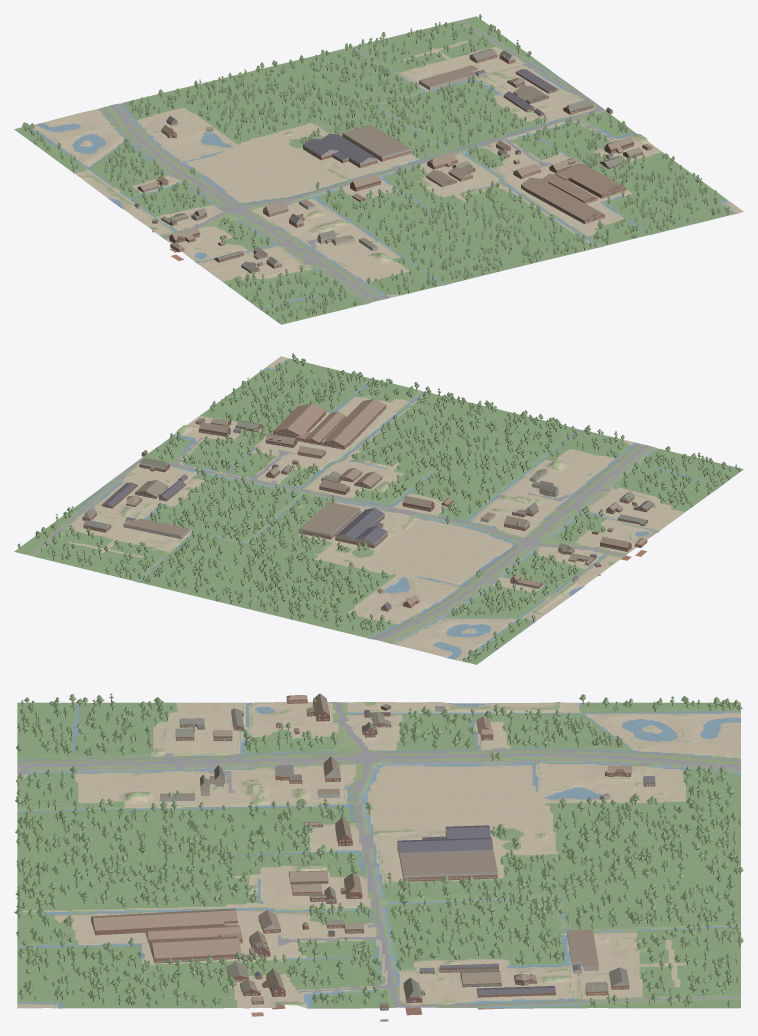
The model's file is bosven-veghel_x332_y811.glb.
3 views of the same model, one above another, from view 1: azimuth 30°, elevation 25°; view 2: azimuth 150°, elevation 25°; view 3: azimuth 270°, elevation 25° (orthographic). The views are drawn at different scales.
Parts seen in each view (by area): view 1: class:green, class:sand, class:tree, class:roof, class:grass, class:water, class:wall, class:road, class:trunk, class:trim; view 2: class:green, class:sand, class:tree, class:roof, class:grass, class:water, class:road, class:wall, class:trunk, class:trim; view 3: class:green, class:sand, class:tree, class:roof, class:grass, class:water, class:road, class:wall, class:trunk, class:trim.
Boxes of the visible parts, x1=… form: class:green: x1=14, y1=16, x2=734, y2=324; class:sand: x1=29, y1=40, x2=743, y2=297; class:tree: x1=21, y1=14, x2=729, y2=321; class:roof: x1=135, y1=49, x2=651, y2=270; class:grass: x1=35, y1=19, x2=732, y2=309; class:water: x1=33, y1=47, x2=735, y2=309; class:wall: x1=134, y1=50, x2=652, y2=273; class:road: x1=103, y1=20, x2=616, y2=302; class:trunk: x1=25, y1=18, x2=728, y2=321; class:trim: x1=135, y1=55, x2=651, y2=272; class:green: x1=14, y1=358, x2=743, y2=664; class:sand: x1=67, y1=356, x2=684, y2=661; class:tree: x1=17, y1=353, x2=741, y2=661; class:roof: x1=84, y1=399, x2=653, y2=608; class:grass: x1=27, y1=362, x2=722, y2=662; class:water: x1=74, y1=358, x2=721, y2=661; class:road: x1=30, y1=437, x2=654, y2=642; class:wall: x1=82, y1=405, x2=654, y2=611; class:trunk: x1=18, y1=358, x2=739, y2=661; class:trim: x1=82, y1=407, x2=653, y2=610; class:green: x1=17, y1=702, x2=740, y2=1008; class:sand: x1=17, y1=702, x2=740, y2=1008; class:tree: x1=14, y1=693, x2=743, y2=1006; class:roof: x1=91, y1=693, x2=655, y2=1006; class:grass: x1=17, y1=702, x2=740, y2=1008; class:water: x1=17, y1=702, x2=740, y2=1008; class:road: x1=17, y1=702, x2=740, y2=1007; class:wall: x1=91, y1=697, x2=655, y2=1021; class:trunk: x1=17, y1=699, x2=740, y2=1007; class:trim: x1=93, y1=699, x2=653, y2=1010.
Bounding box in the file's own units: 507 × 18.7 × 504.
